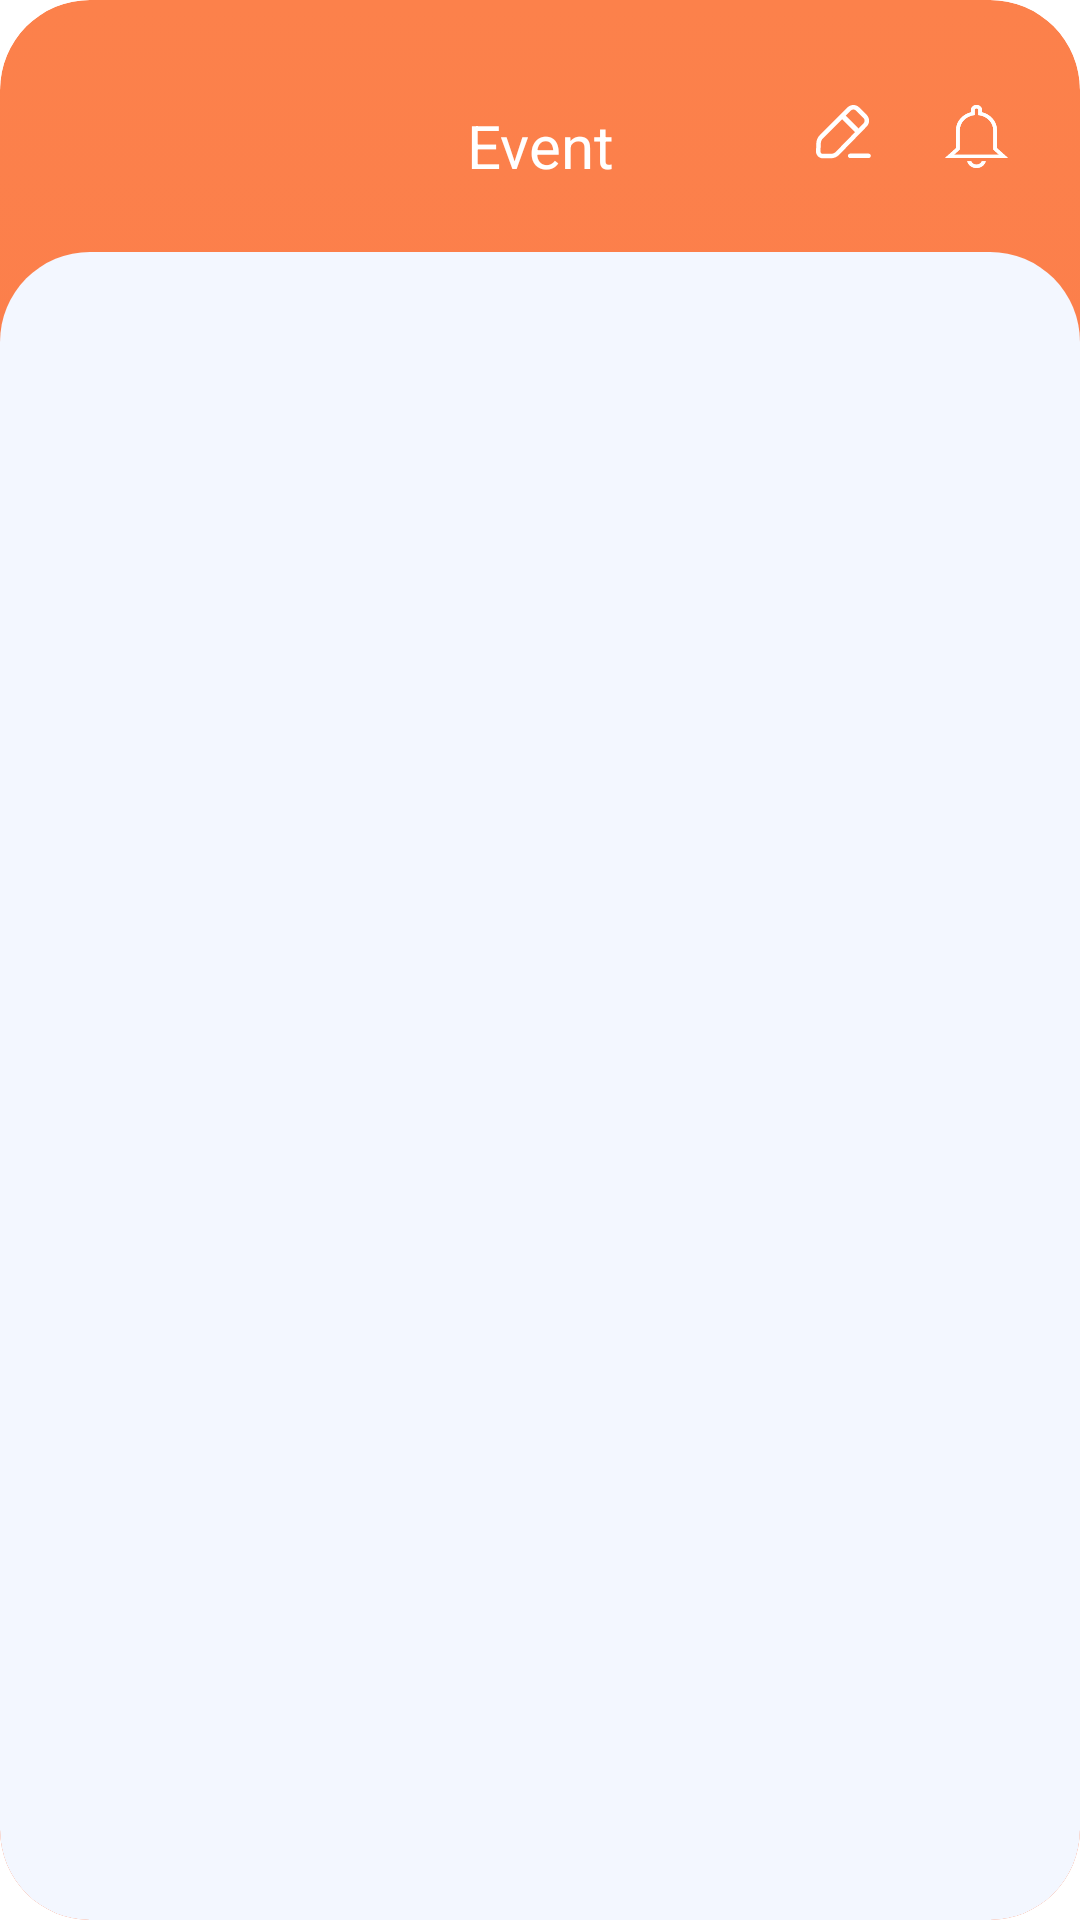

Locate icon controls on the screen. Image size 1080 x 1920, boxes as [x1=x1, y1=y1, x2=x2, y2=y2].
bell: [x1=945, y1=105, x2=1008, y2=168]
edit: [x1=816, y1=105, x2=871, y2=159]
